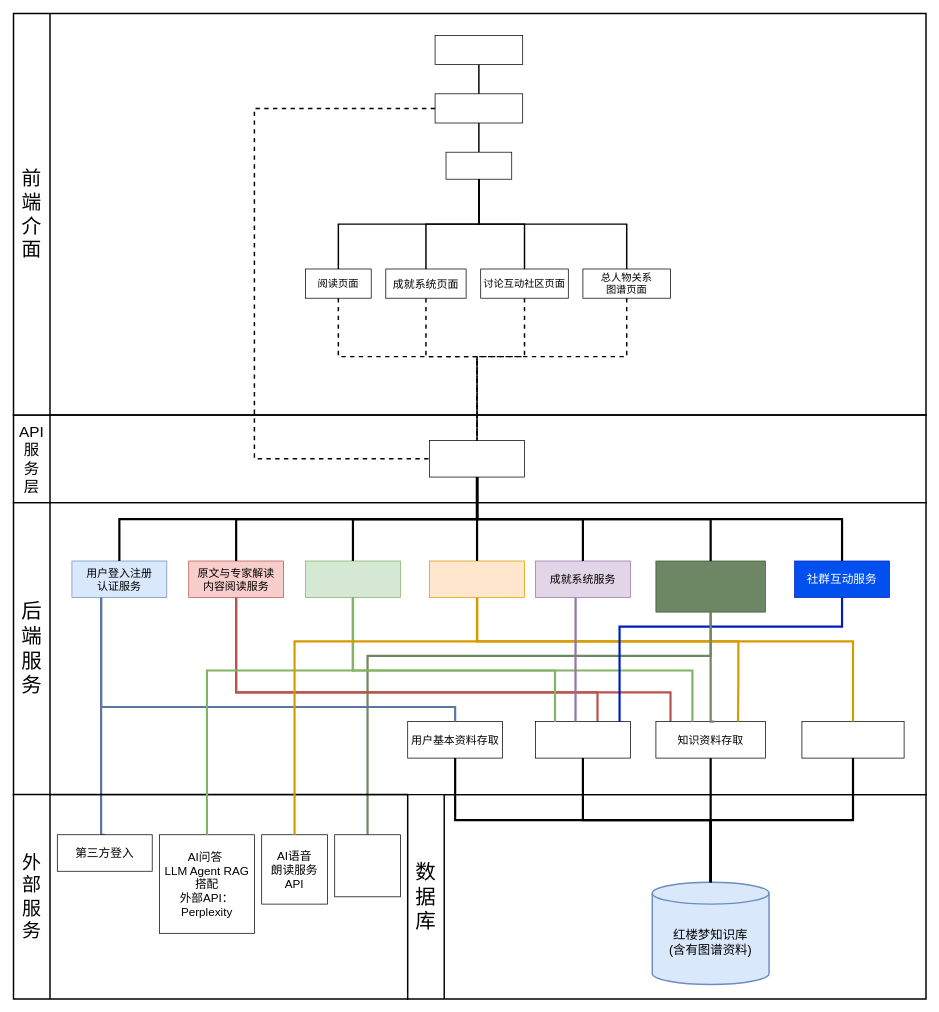
Image size: 939x1012. Some labels were removed from this diagram. The shapes that lost their labels are listed below. From the top down, each one's centre as x and y in pixels, then its label:
At [478,50]: "访客介绍页面".
At [478,108]: "登入注册页面".
At [478,165]: "首页".
At [477,458]: "API 闸道器 (API GateWay)".
At [352,579]: "AI阅读问答服务".
At [477,579]: "媒体管理服务".
At [710,586]: "知识图谱生成服务 (章节图谱、总人物关系图谱)".
At [582,739]: "用户内容资料存取".
At [852,739]: "媒体资料存取".
At [367,865]: "KG-Gen技术依据文本 产生图谱".
